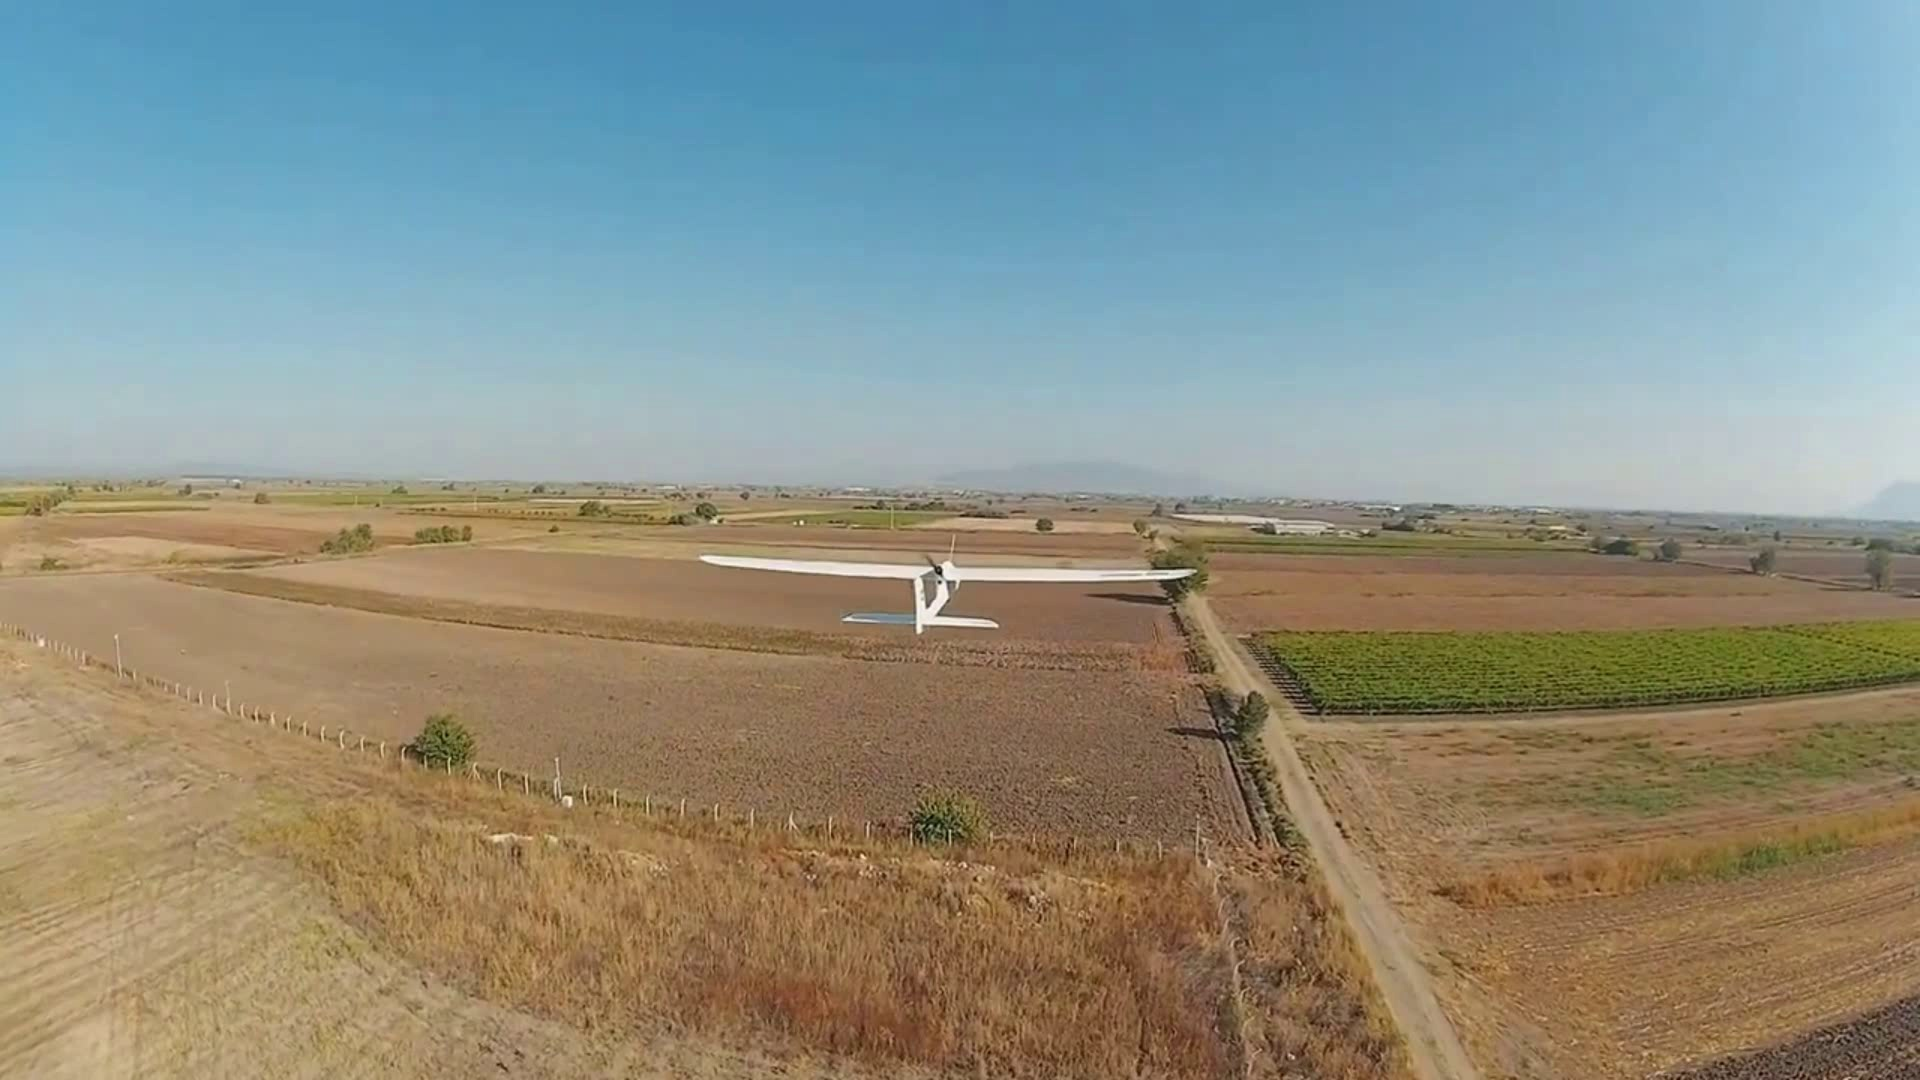airplane: (695, 542, 1215, 630)
